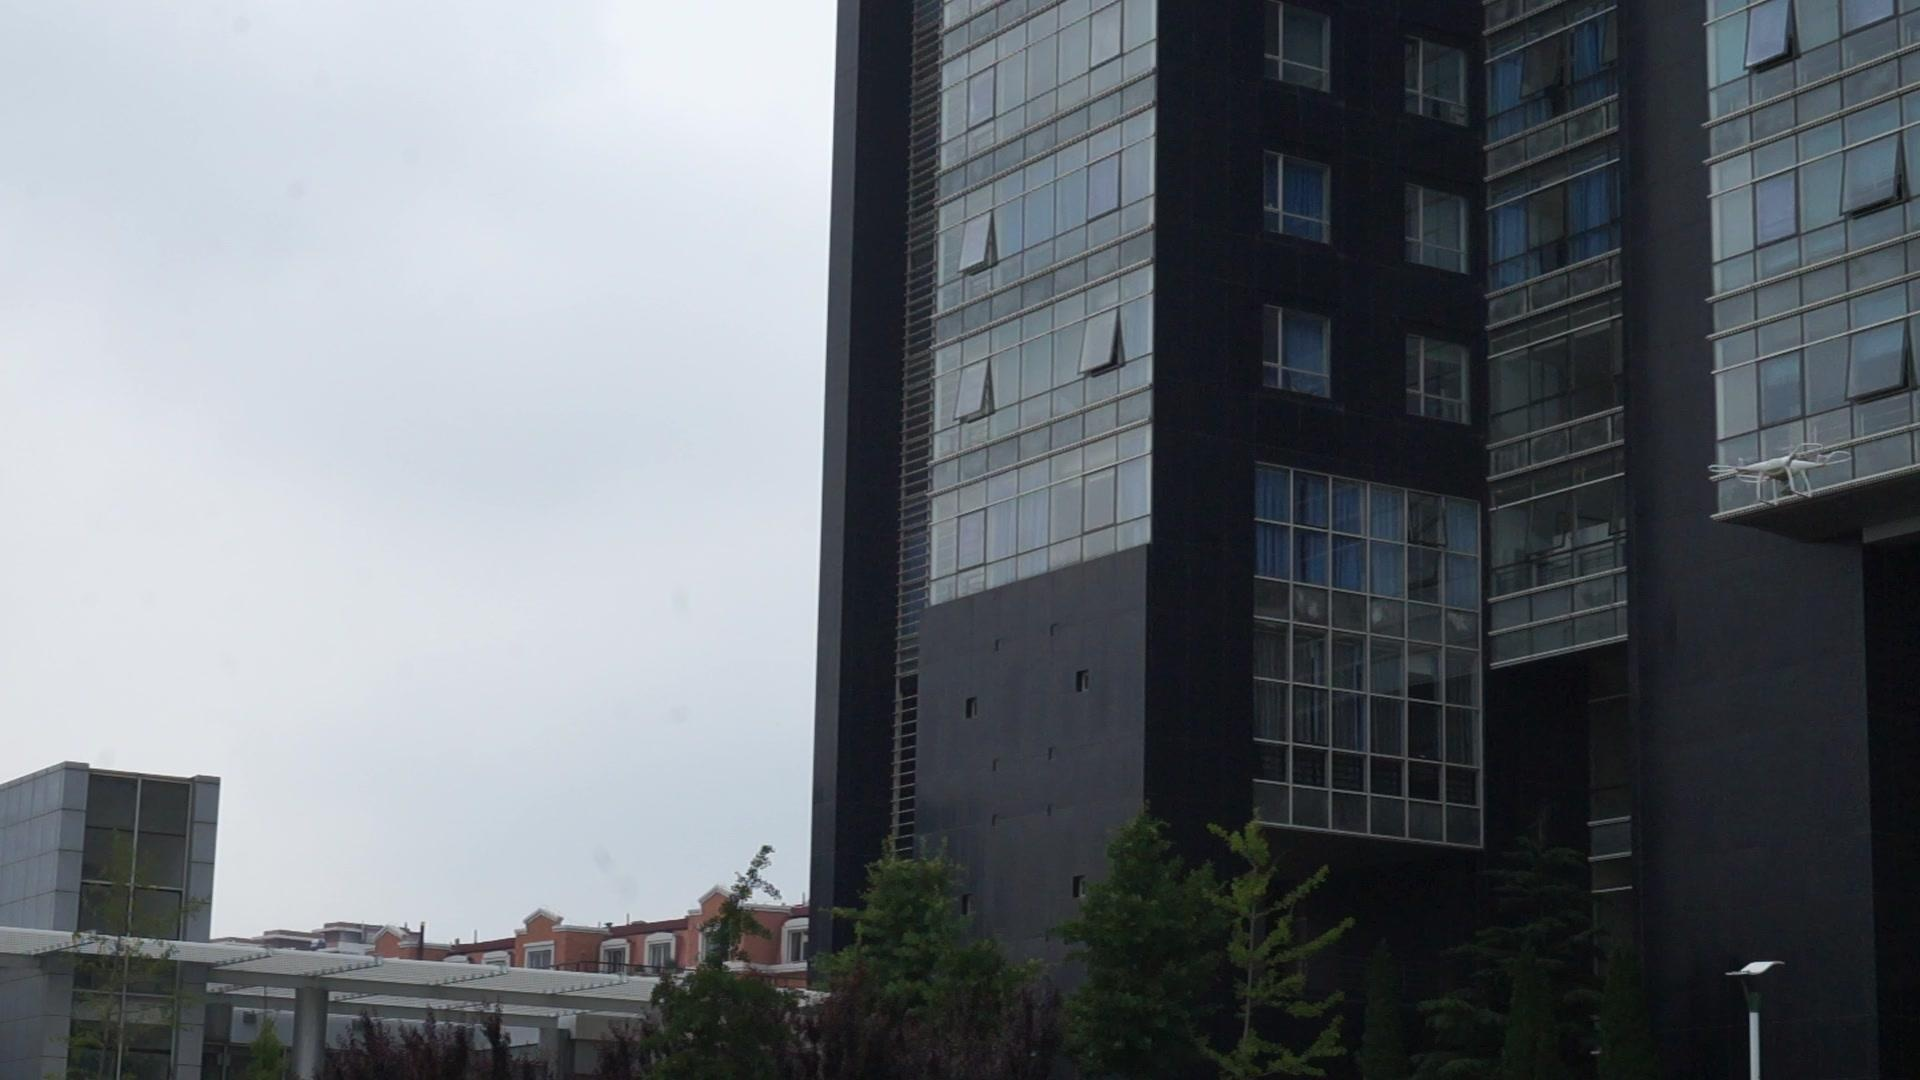UAV: (1706, 442, 1855, 506)
